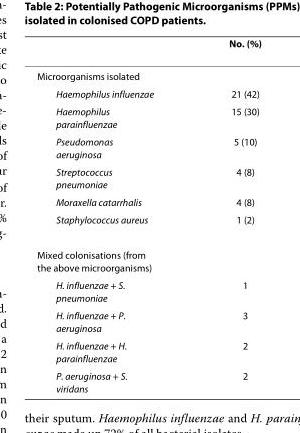table: (36, 37, 260, 393)
table column: (36, 37, 190, 393), (190, 37, 260, 393)
table column header: (36, 37, 260, 59)
table projected row header: (36, 237, 260, 276), (36, 59, 260, 84)
table row: (36, 237, 260, 276), (36, 162, 260, 193), (36, 102, 260, 132), (36, 132, 260, 162), (36, 276, 260, 306), (36, 306, 260, 336), (36, 336, 260, 366), (36, 210, 260, 237), (36, 366, 260, 393), (36, 59, 260, 84), (36, 37, 260, 59), (36, 84, 260, 102), (36, 193, 260, 210)
